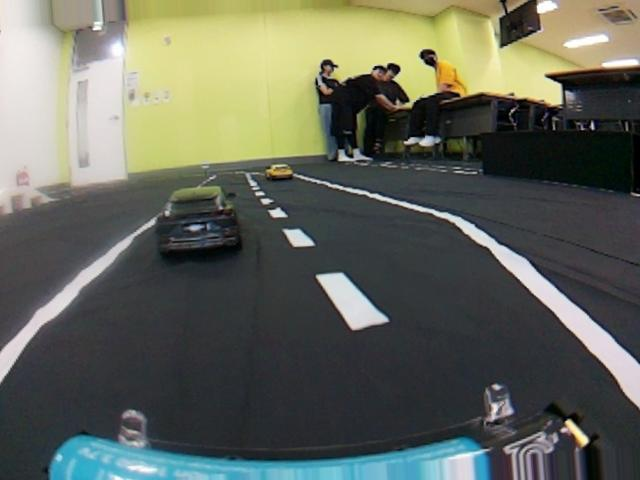car: (146, 186, 246, 256), (259, 164, 304, 182)
right: (3, 274, 640, 479)
